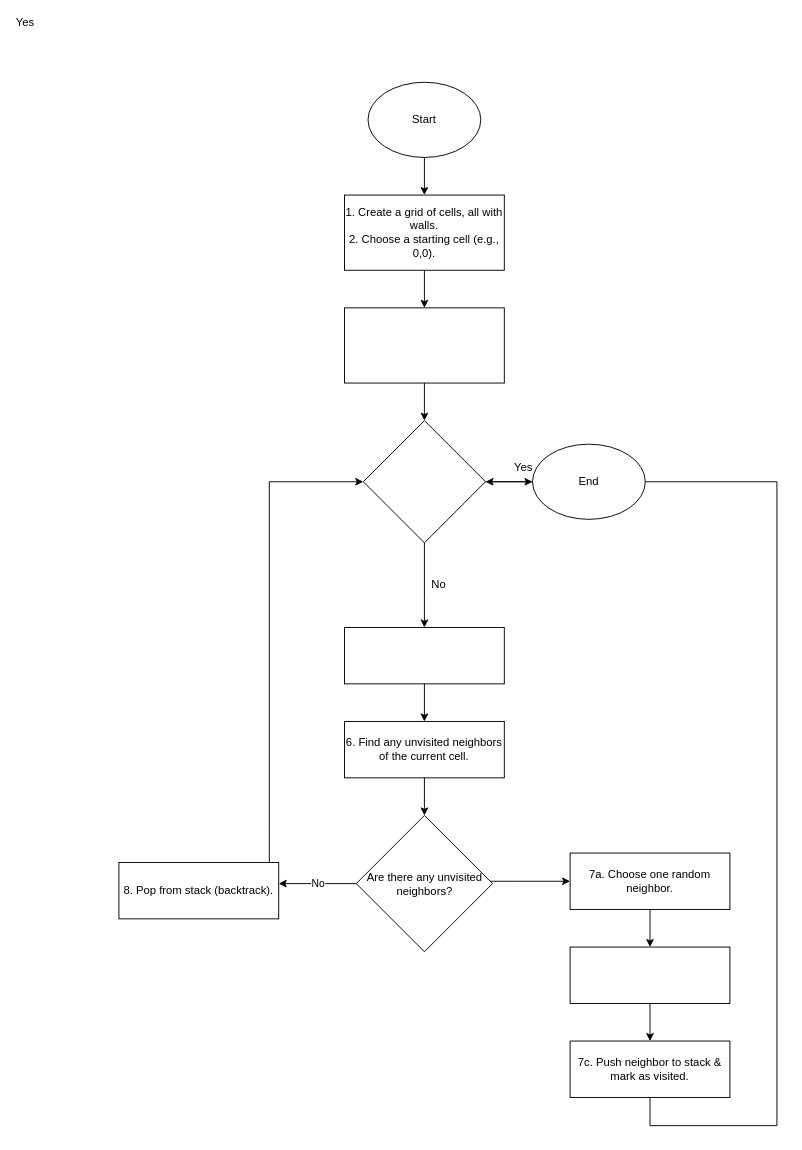
Some shapes in this 802 by 1150 pixel diagram are drawn without their labels. Here are the shapes that lost their labels. From the top down, the centre of each, then its label:
(424,345): 3. Push the starting cell to a stack. 4. Mark it as visited.
(424,481): Is the stack empty?
(424,655): 5. Let current cell = top of stack.
(649,974): 7b. Remove wall between current cell and neighbor.
